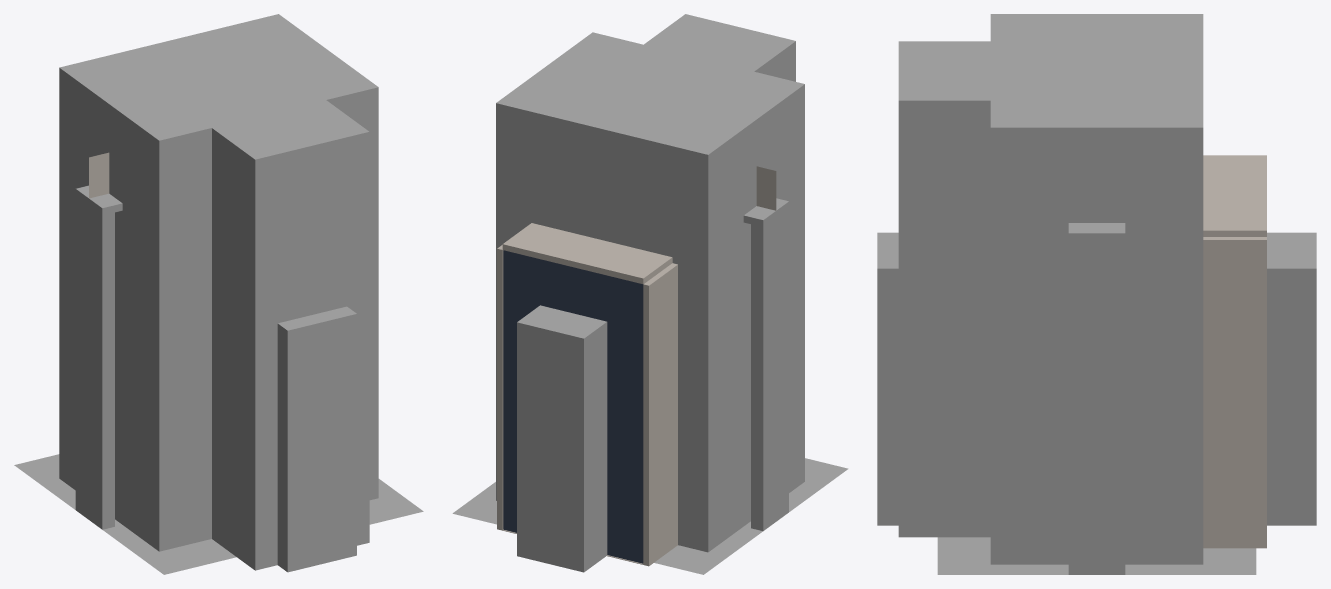
Rendered from concrete.glb.
3 renders of one model, left to right at view 1: azimuth 30°, elevation 25°; view 2: azimuth 150°, elevation 25°; view 3: azimuth 270°, elevation 25°, orthographic. The views are drawn at different scales.
Parts seen in each view (by area): view 1: Isl_boiler, Solid_boiler_wall, Solid_shelf_rack, Door_frame_concrete, Mod_ceilhole_concrete, Mod_breach_brick_B_concrete; view 2: Isl_boiler, Solid_shelf_rack, Exit_concrete_p1, Exit_concrete_p0, Door_frame_concrete, Solid_boiler_wall, Mod_ceilhole_concrete, Mod_breach_brick_B_concrete; view 3: Isl_boiler, Solid_boiler_wall, Exit_concrete_p0, Solid_shelf_rack, Door_frame_concrete, Mod_ceilhole_concrete.
Boxes of the visible parts, x1,y1,x2,y2 form: Isl_boiler: (59, 14, 378, 551); Solid_boiler_wall: (163, 63, 369, 570); Solid_shelf_rack: (277, 306, 356, 572); Door_frame_concrete: (75, 185, 122, 529); Mod_ceilhole_concrete: (14, 454, 423, 574); Mod_breach_brick_B_concrete: (89, 153, 109, 197); Isl_boiler: (496, 32, 804, 552); Solid_shelf_rack: (517, 305, 607, 572); Exit_concrete_p1: (503, 250, 643, 563); Exit_concrete_p0: (497, 170, 775, 566); Door_frame_concrete: (743, 198, 788, 531); Solid_boiler_wall: (595, 14, 795, 106); Mod_ceilhole_concrete: (452, 458, 848, 574); Mod_breach_brick_B_concrete: (756, 166, 776, 210); Isl_boiler: (990, 14, 1203, 564); Solid_boiler_wall: (898, 41, 1096, 537); Exit_concrete_p0: (1203, 155, 1266, 548); Solid_shelf_rack: (877, 232, 1316, 525); Door_frame_concrete: (1068, 223, 1125, 574); Mod_ceilhole_concrete: (937, 537, 1256, 574).
Bounding box in the file's own units: 2.25 × 3.7 × 3.1.
